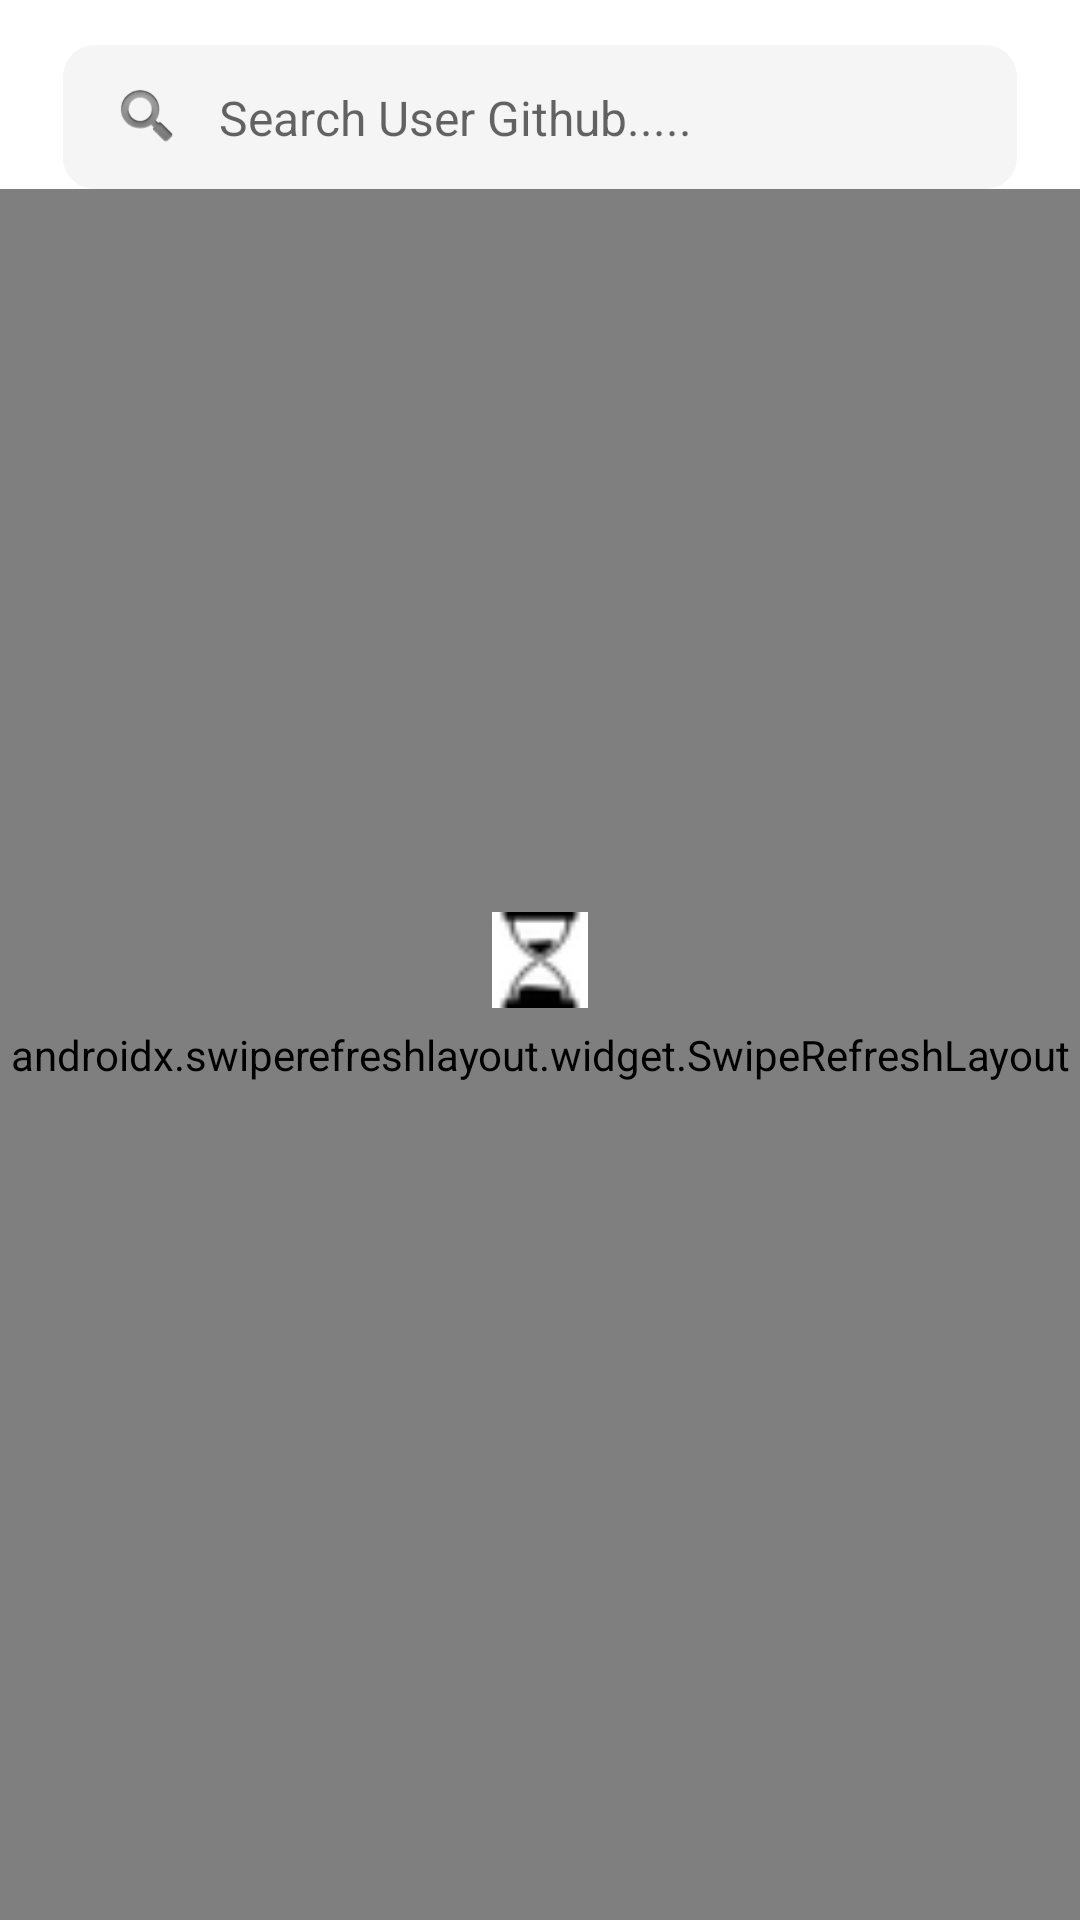

Named icons in this screenshot (1080 × 1920) and their centers, [x,y]:
search category: [147,116]
